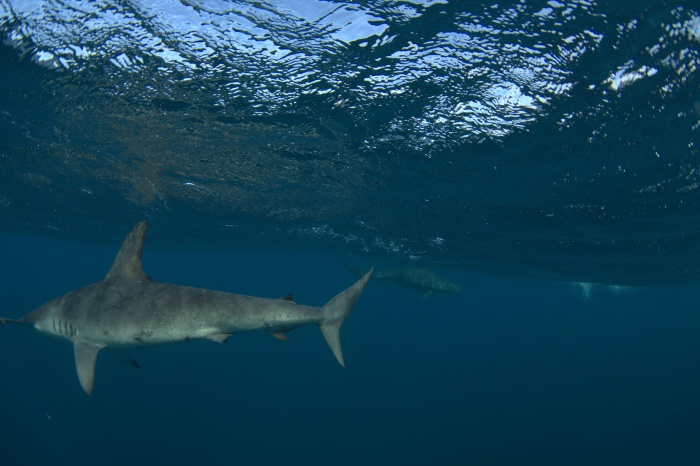Hammer: (4, 220, 382, 401), (327, 270, 556, 363)
